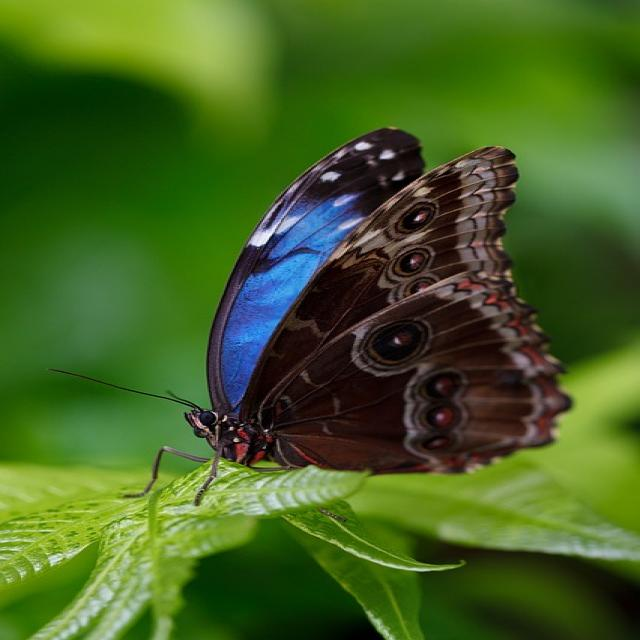butterfly: (186, 129, 571, 472)
